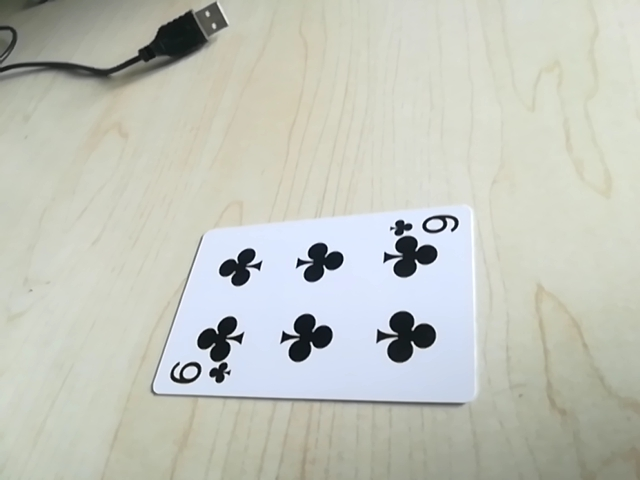mh 6: (162, 358, 231, 392), (389, 210, 462, 239)
